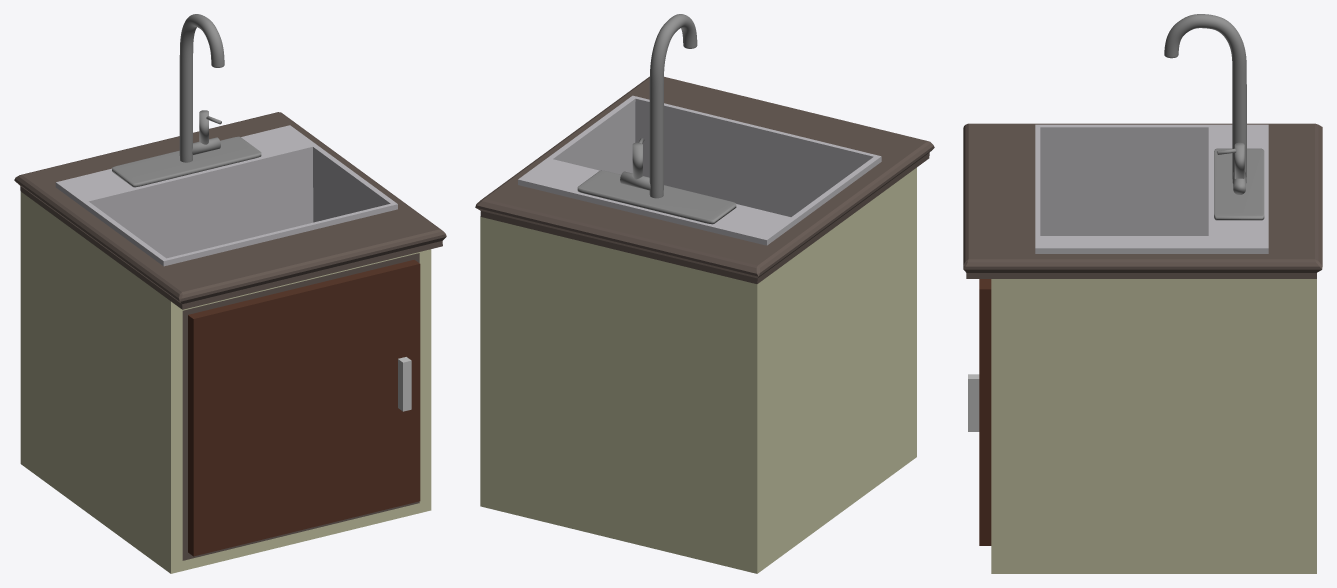
File: CounterWithSink_NewProp.fbx
3 views of the same model, side by side, from view 1: azimuth 30°, elevation 25°; view 2: azimuth 150°, elevation 25°; view 3: azimuth 270°, elevation 25° (orthographic). The views are drawn at different scales.
Visible parts, largest first — view 1: Sink; view 2: Sink; view 3: Sink.
Part boxes in pixels (left/top/right/bottom): Sink: left=14, top=14, right=446, bottom=573; Sink: left=475, top=14, right=934, bottom=573; Sink: left=963, top=14, right=1322, bottom=573.
Bounding box in the file's own units: 205 × 333 × 221.
